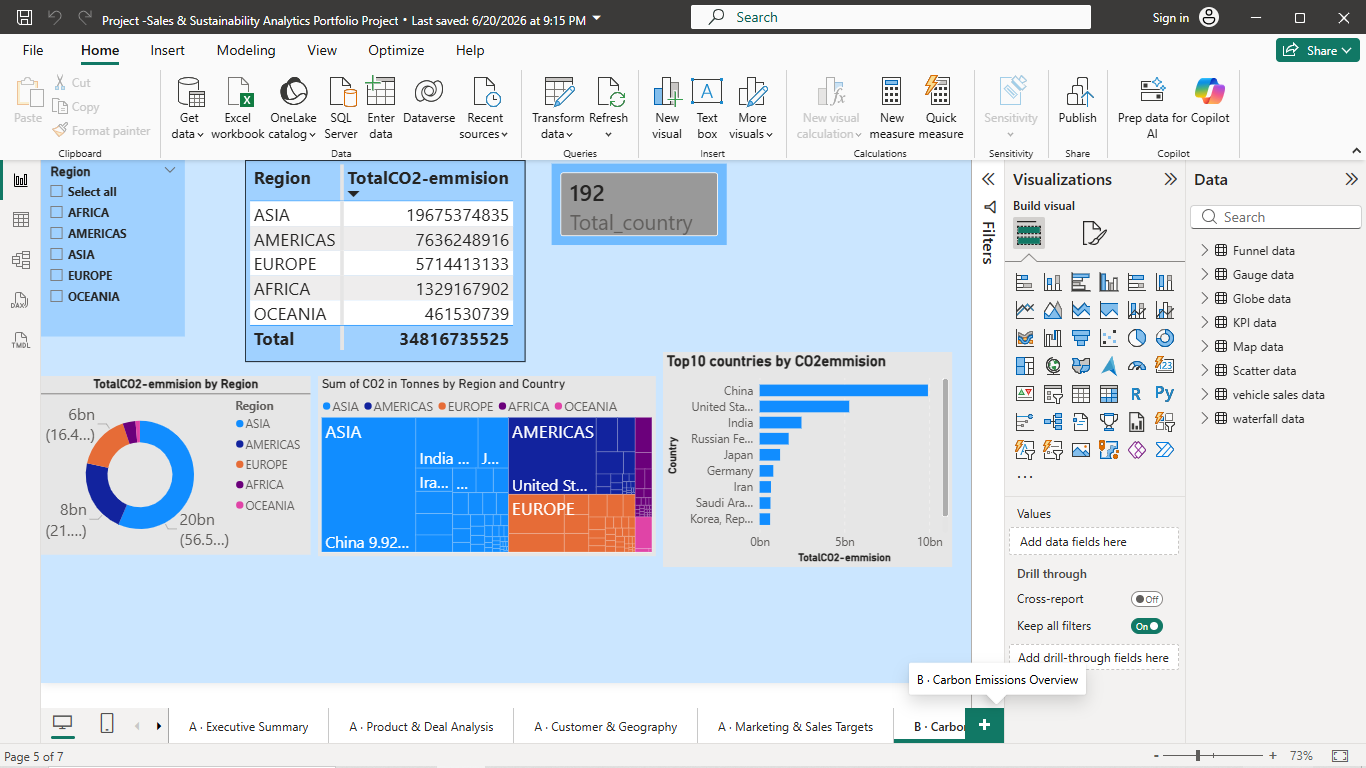

Layout of this report page (visuals, bound fields, positions):
{"tool":"powerbi","page":{"name":"PROJECT -B Carbon Emissions Overview","canvas":[1280,720],"ordinal":4},"visuals":[{"type":"tableEx","fields":{"Values":["Globe data.Region","Globe data.TotalCO2-emmision"]},"box":[281,0,385.9,278.1],"z":0},{"type":"cardVisual","fields":{"Data":["Globe data.COUNTRY_COUNT"]},"box":[697.8,0,251.9,122.5],"z":1000},{"type":"donutChart","fields":{"Y":["Globe data.TotalCO2-emmision"],"Category":["Globe data.Region"]},"box":[0,297.1,371.3,246.1],"z":2000},{"type":"treemap","fields":{"Group":["Globe data.Region"],"Values":["Sum(Globe data.CO2 in Tonnes)"],"Details":["Globe data.Country"]},"box":[381.5,297.1,464.5,247.6],"z":3000},{"type":"slicer","fields":{"Values":["Globe data.Region"]},"box":[0,0,198,243.2],"z":4000},{"type":"barChart","title":"Top10 countries by CO2emmision","fields":{"Category":["Globe data.Country"],"Y":["Globe data.TotalCO2-emmision"]},"box":[856.2,263.6,397.5,295.6],"z":5000}]}

Visuals, with their boxes on the page's 1280x720 design canvas (x1, y1, x2, y2). These are canvas units, not pixel positions in the 1366x768 screenshot, which may show the page scaled, cropped or inside an application window:
tableEx - Globe data.Region x Globe data.TotalCO2-emmision: [281,0,667,278]
cardVisual - Globe data.COUNTRY_COUNT: [698,0,950,122]
donutChart - Globe data.TotalCO2-emmision x Globe data.Region: [0,297,371,543]
treemap - Globe data.Region x Sum(Globe data.CO2 in Tonnes): [382,297,846,545]
slicer - Globe data.Region: [0,0,198,243]
"Top10 countries by CO2emmision" barChart: [856,264,1254,559]
